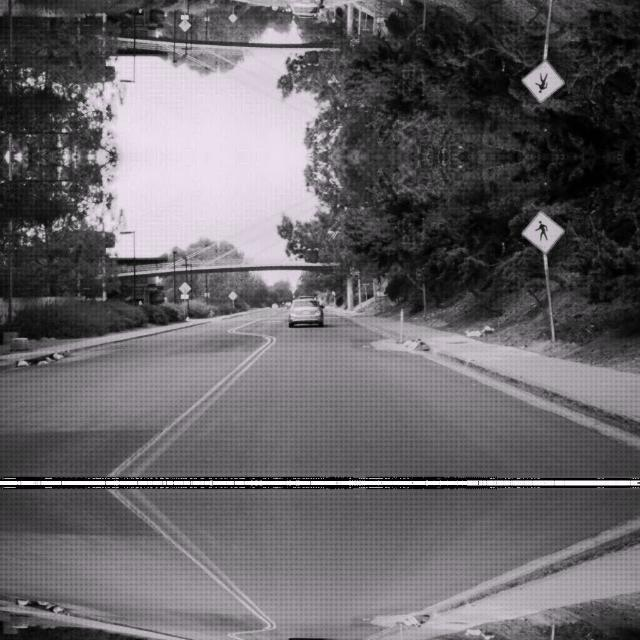pedestrianCrossing: (522, 210, 564, 252), (522, 60, 564, 102)
